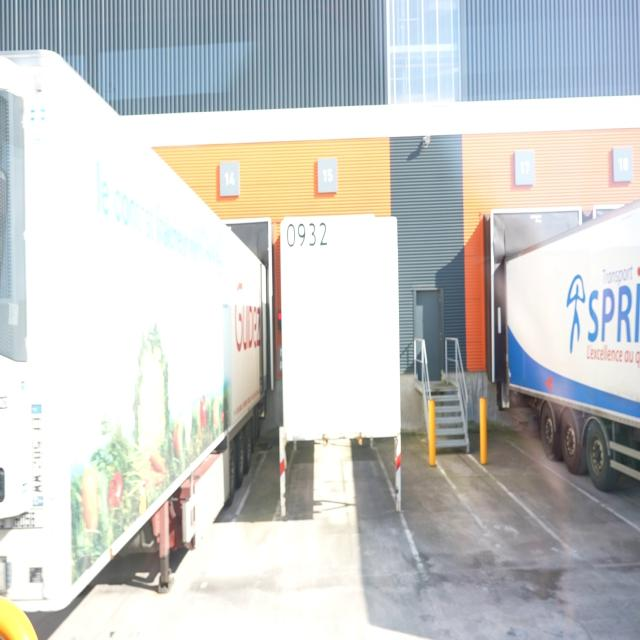Code: (282, 212, 330, 254)
